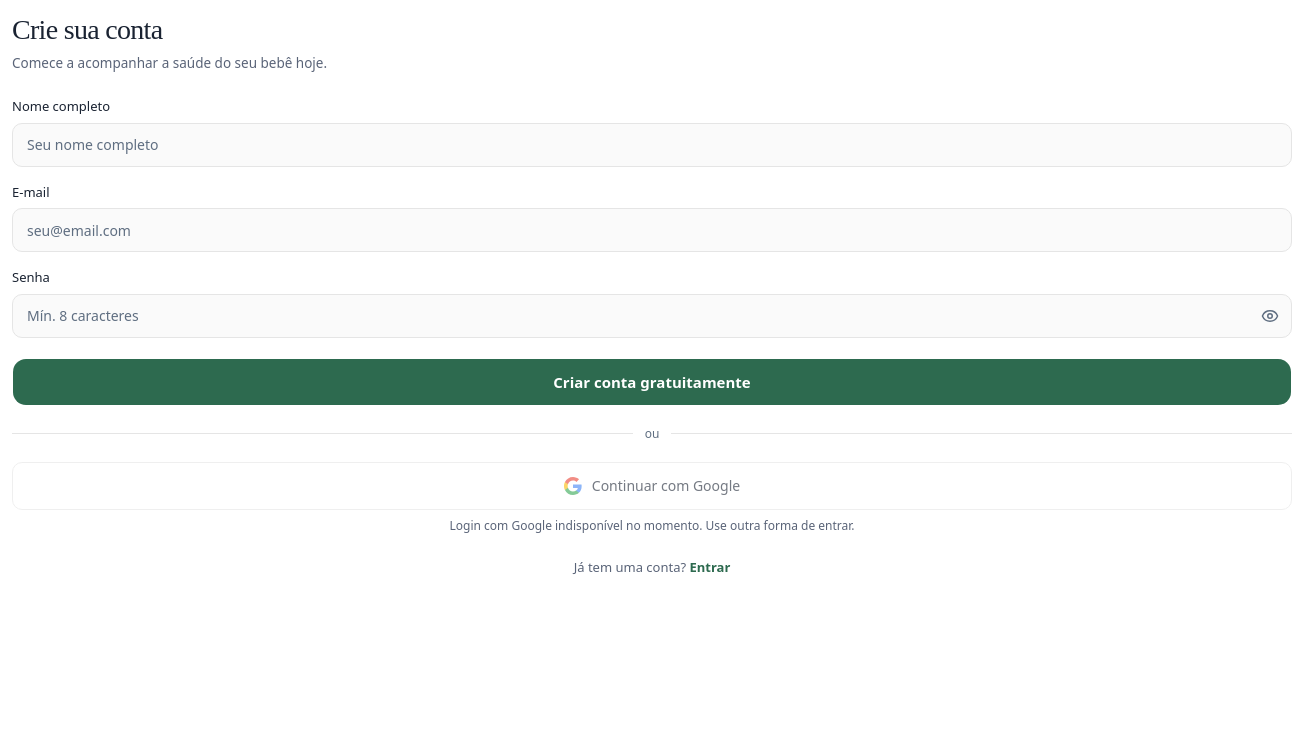
Test: email authentication routes › reports registration failure 409 without establishing identity
The image size is (1304, 732).
Type "Parent" into the field labelled "Nome completo" at coordinates (652, 145), box [12, 123, 1292, 167]
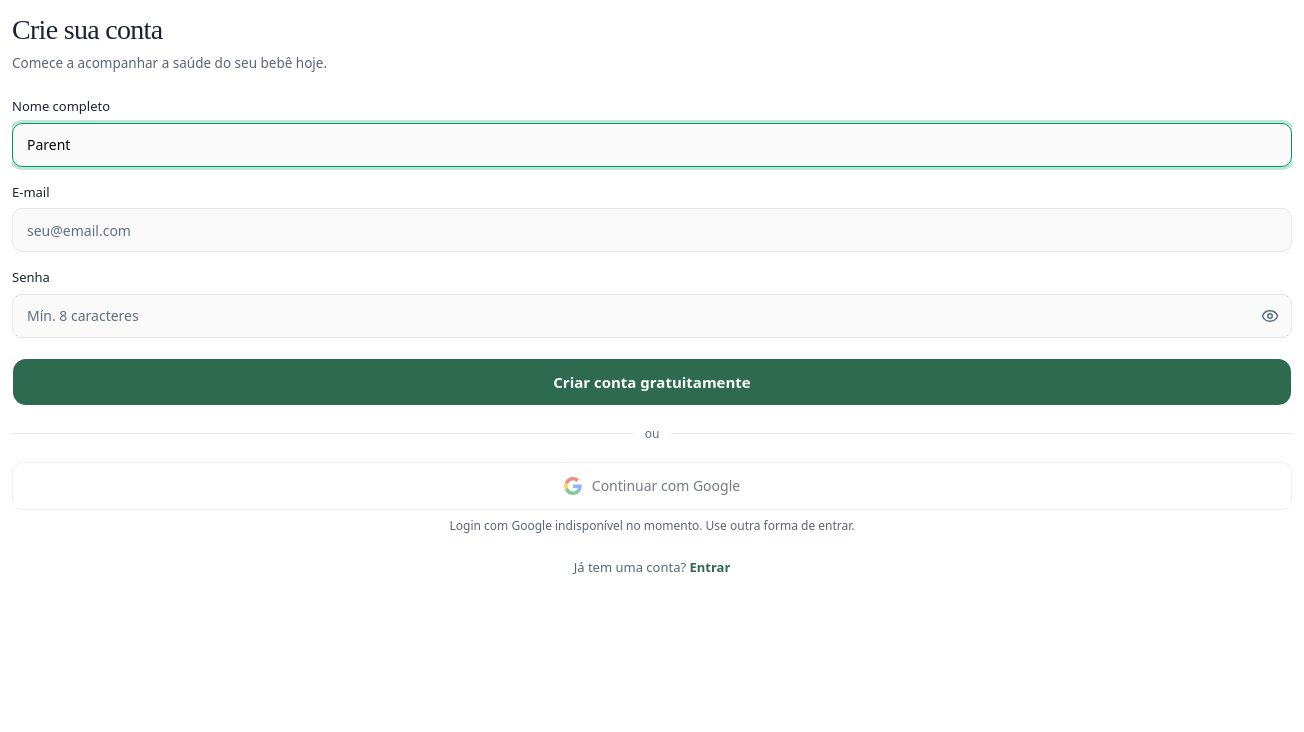
Type "parent@example.com" into the field labelled "E-mail" at coordinates (652, 230), box [12, 208, 1292, 252]
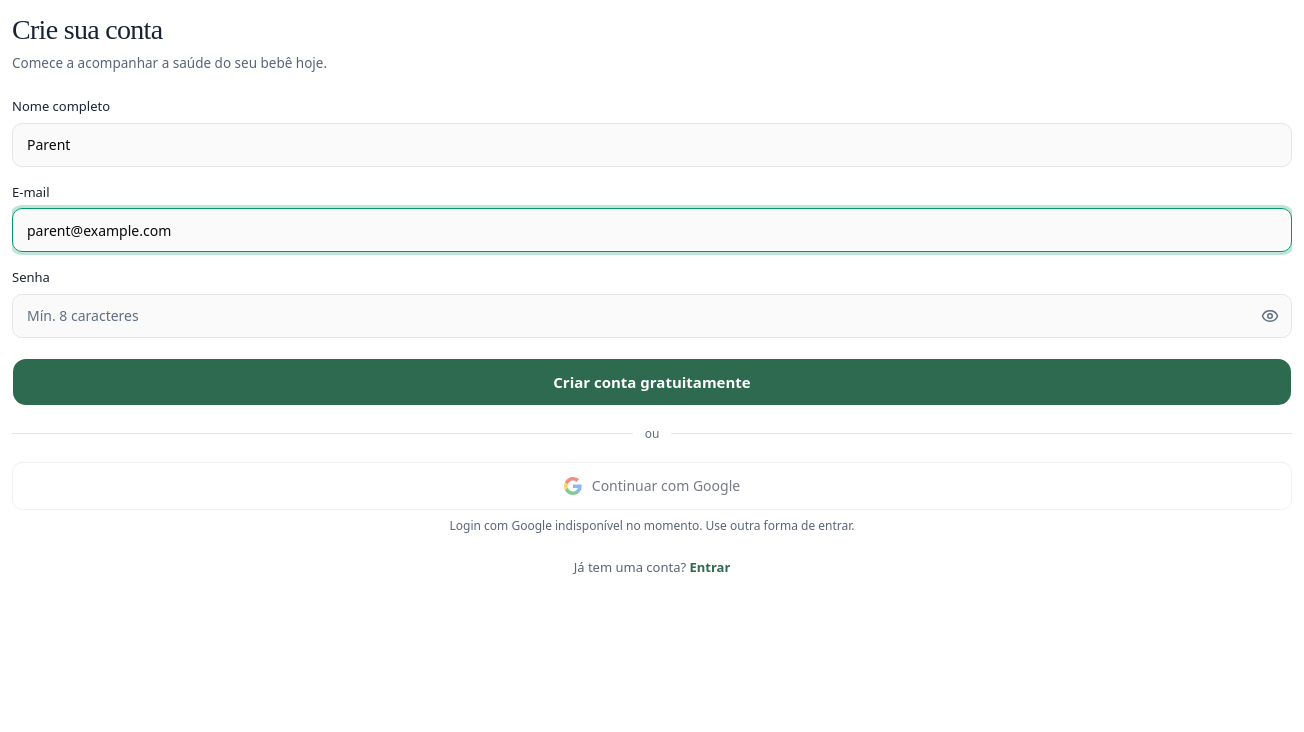
Type "safe-password" into the password field labelled "Senha" at coordinates (652, 316), box [12, 294, 1292, 338]
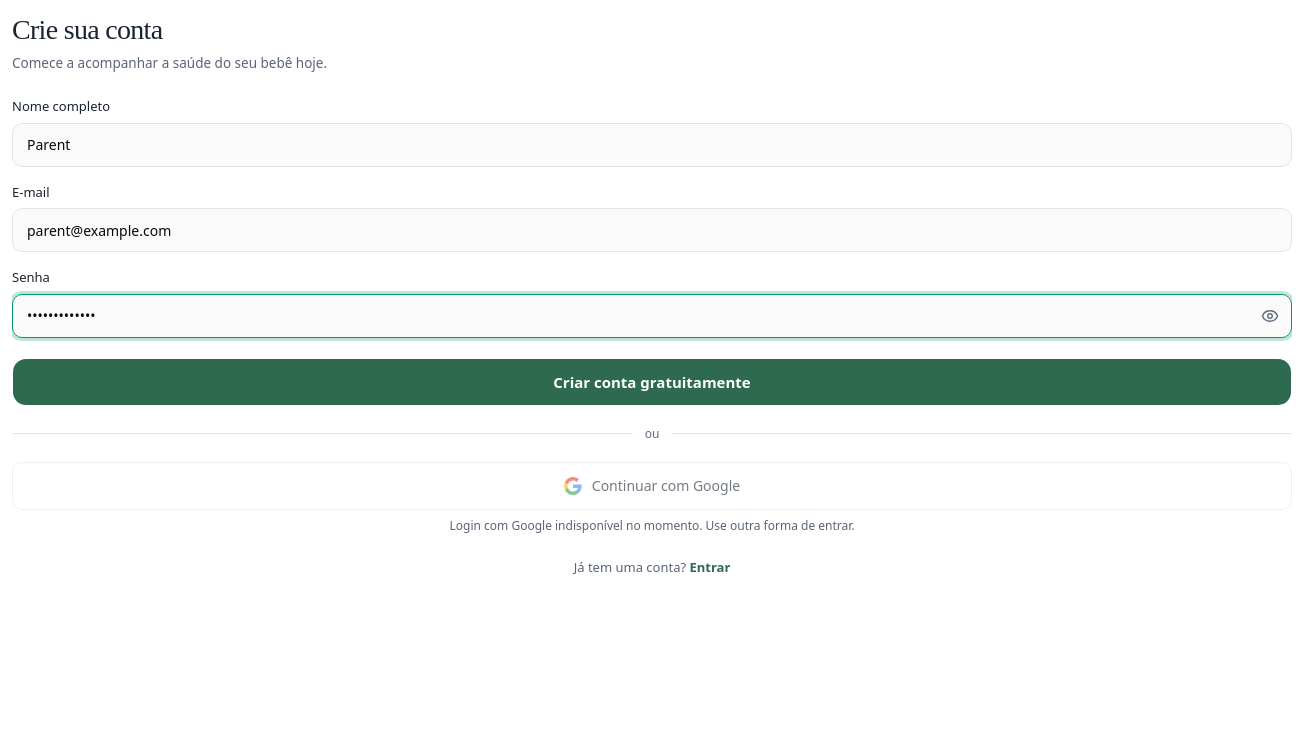
Click the button "Criar conta gratuitamente" at coordinates (652, 382), box [12, 358, 1292, 406]
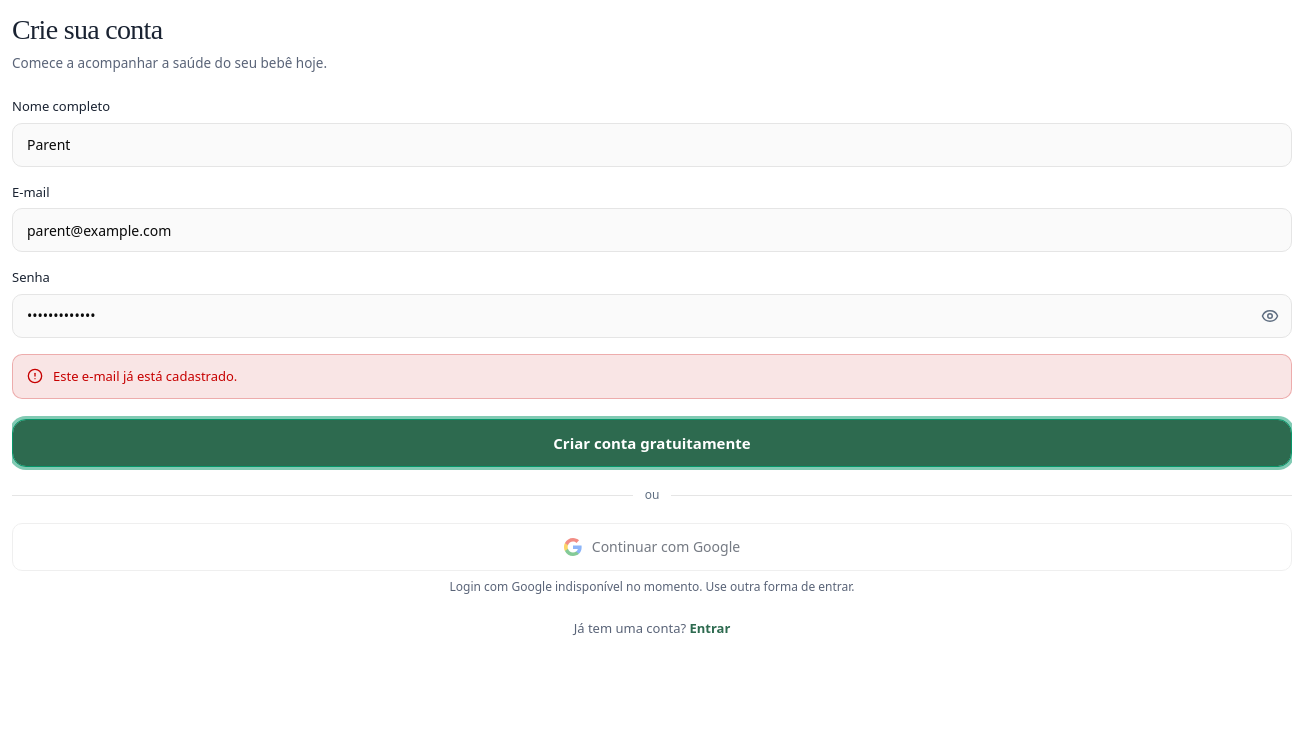
Expected: the message reads "Este e-mail já está cadastrado.", [53, 367, 237, 385]
